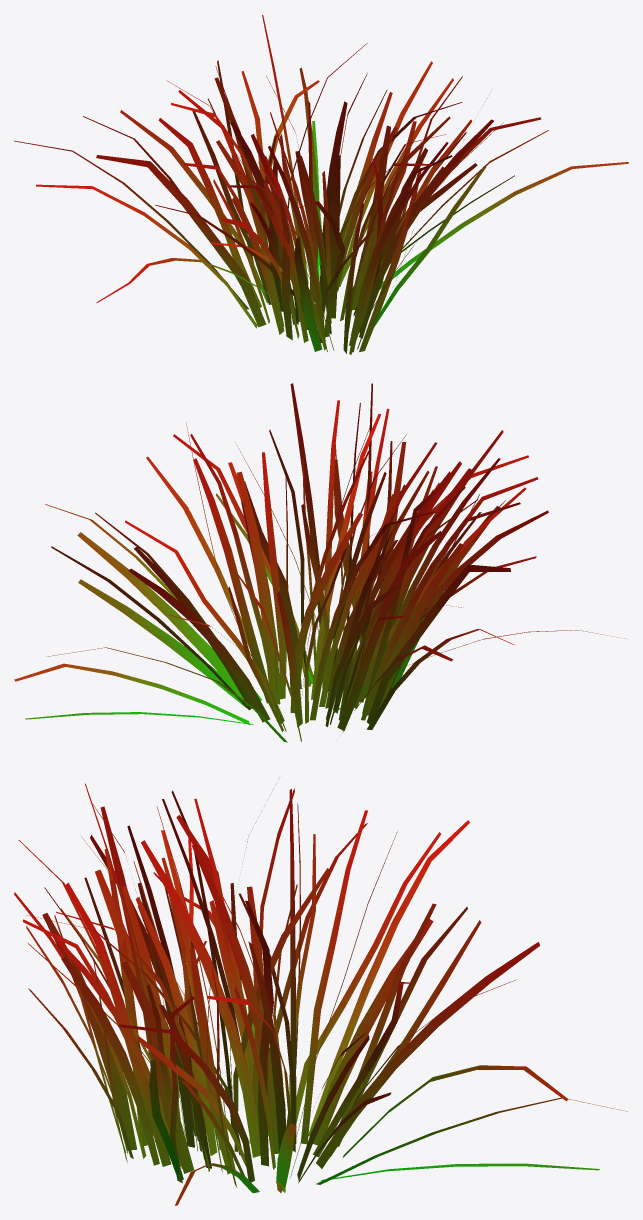
File: Wild Grass_LOD2_Var8_vlkhcbxia.fbx
The picture shows the model from 3 angles, top to bottom: view 1: azimuth 30°, elevation 25°; view 2: azimuth 150°, elevation 25°; view 3: azimuth 270°, elevation 25°; orthographic projection. The views are drawn at different scales.
Parts seen in each view (by area): view 1: _kt26_Var8_LOD2; view 2: _kt26_Var8_LOD2; view 3: _kt26_Var8_LOD2.
Boxes of the visible parts, x1,y1,x2,y2 form: _kt26_Var8_LOD2: (14, 15, 628, 354); _kt26_Var8_LOD2: (14, 383, 624, 742); _kt26_Var8_LOD2: (14, 777, 627, 1205).
Bounding box in the file's own units: 25.38 × 11.2 × 19.67.
